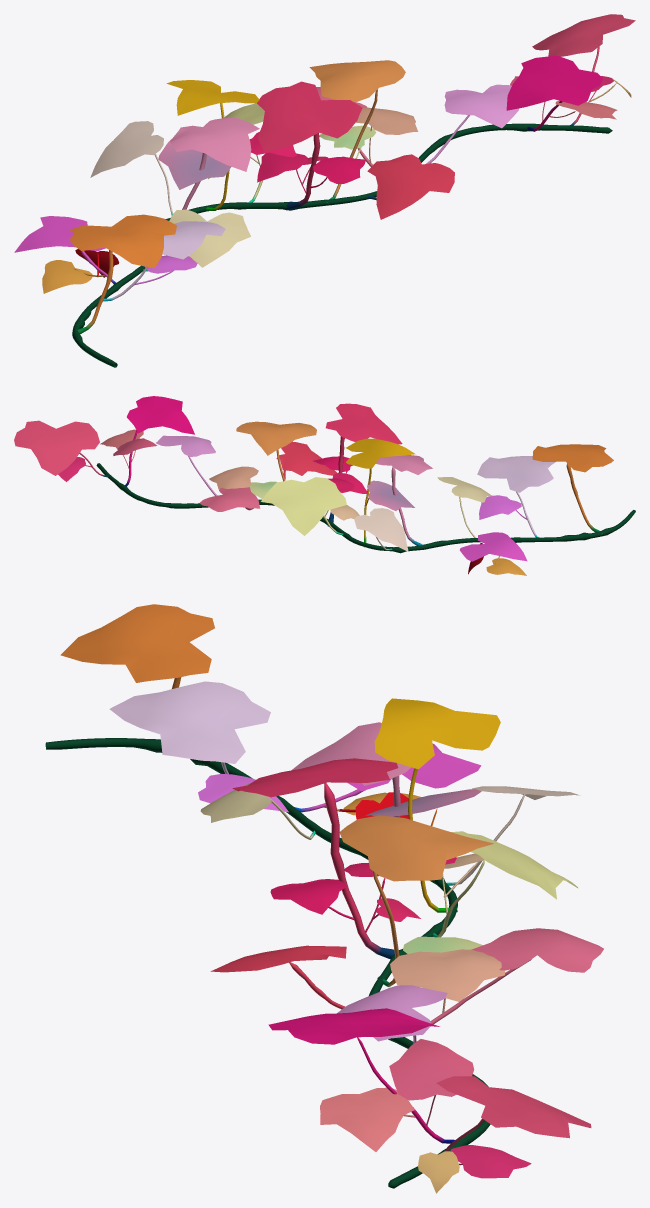
The model's file is English_Ivy_xfcnebhqx_High_xfcnebhqx_VarG_LOD0.fbx.
3 views of the same model, one above another, from view 1: azimuth 30°, elevation 25°; view 2: azimuth 150°, elevation 25°; view 3: azimuth 270°, elevation 25° (orthographic). The views are drawn at different scales.
Parts seen in each view (by area): view 1: _la50_VarG_LOD0; view 2: _la50_VarG_LOD0; view 3: _la50_VarG_LOD0.
Boxes of the visible parts, x1,y1,x2,y2 form: _la50_VarG_LOD0: (14,14,635,367); _la50_VarG_LOD0: (14,396,635,575); _la50_VarG_LOD0: (45,604,603,1193).
Bounding box in the file's own units: 63.12 × 13.42 × 30.48.
